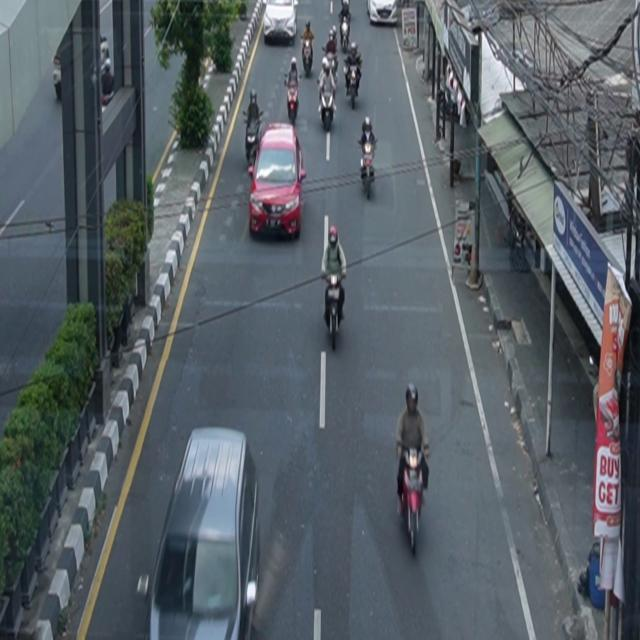car: (138, 427, 262, 640), (249, 123, 308, 241), (264, 1, 299, 46), (367, 1, 398, 26)
